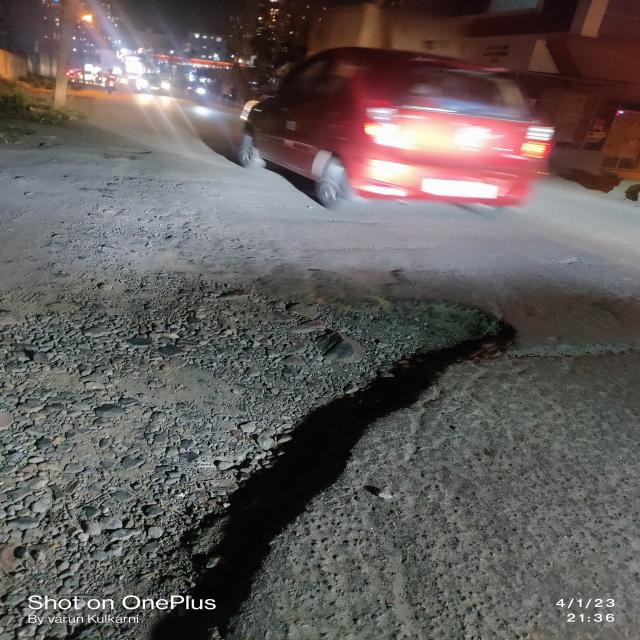potholes: (84, 288, 535, 628)
